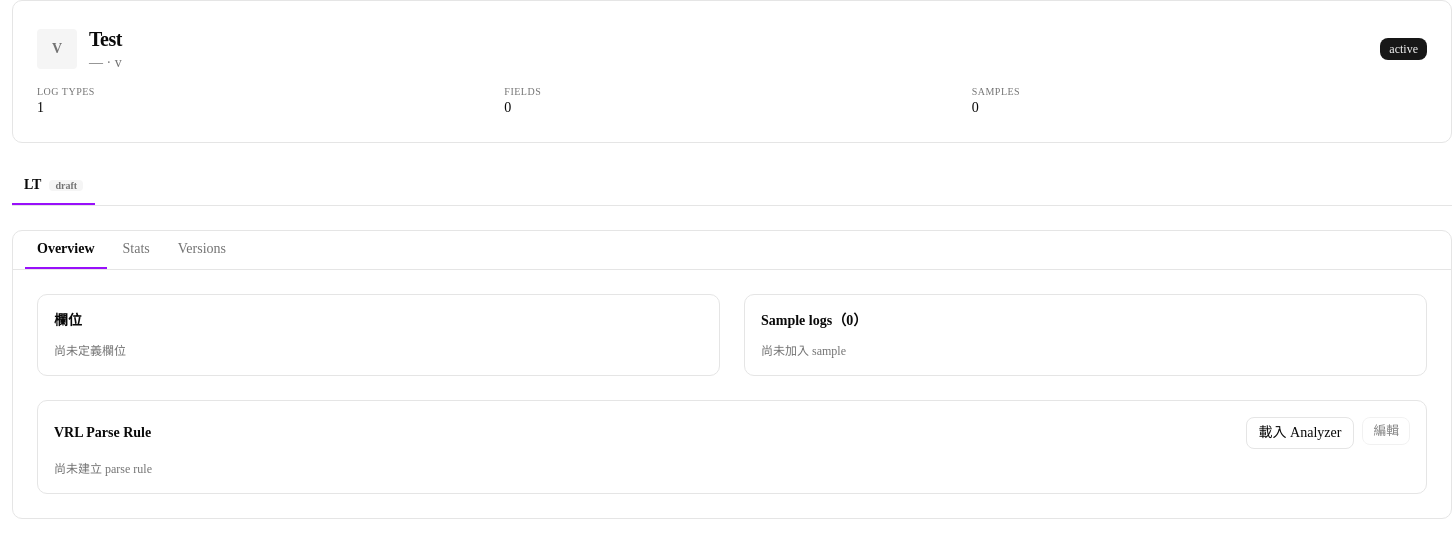
ProductDetailView sub-tabs › clicking Stats fetches log type stats
The image size is (1452, 536).
Click the button "Stats". click: (136, 250)
box: [110,231,162,269]
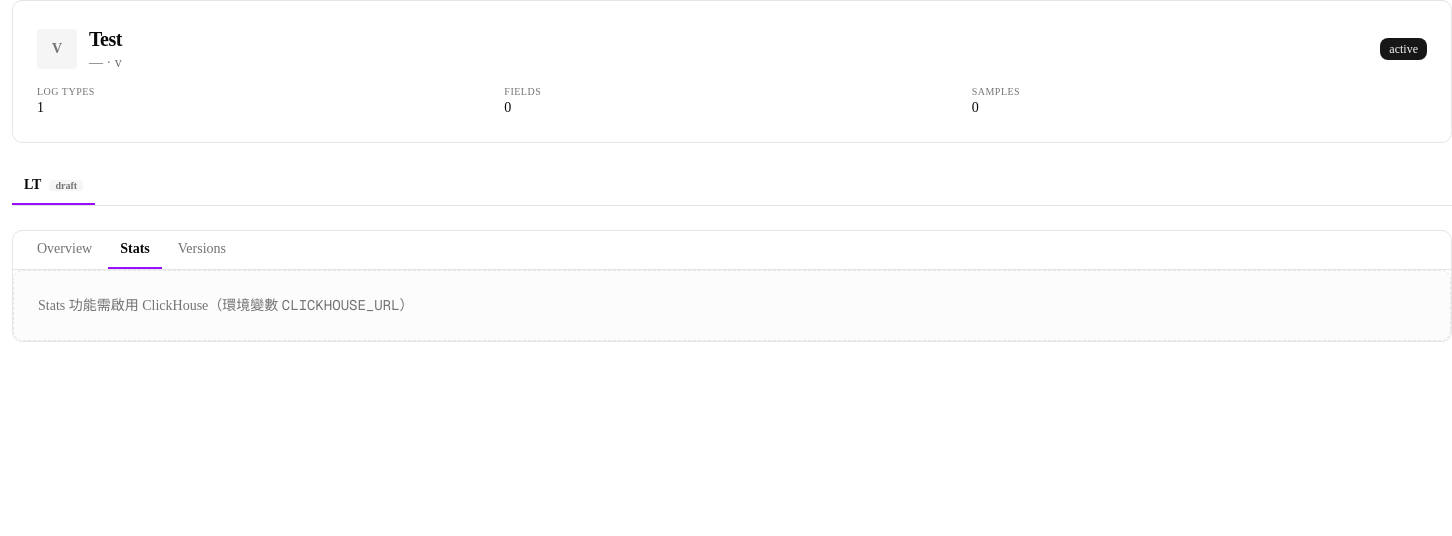
Expected: the text "Stats 功能需啟用 ClickHouse（環境變數 CLICKHOUSE_URL）" is shown, [13,270,1451,341]
